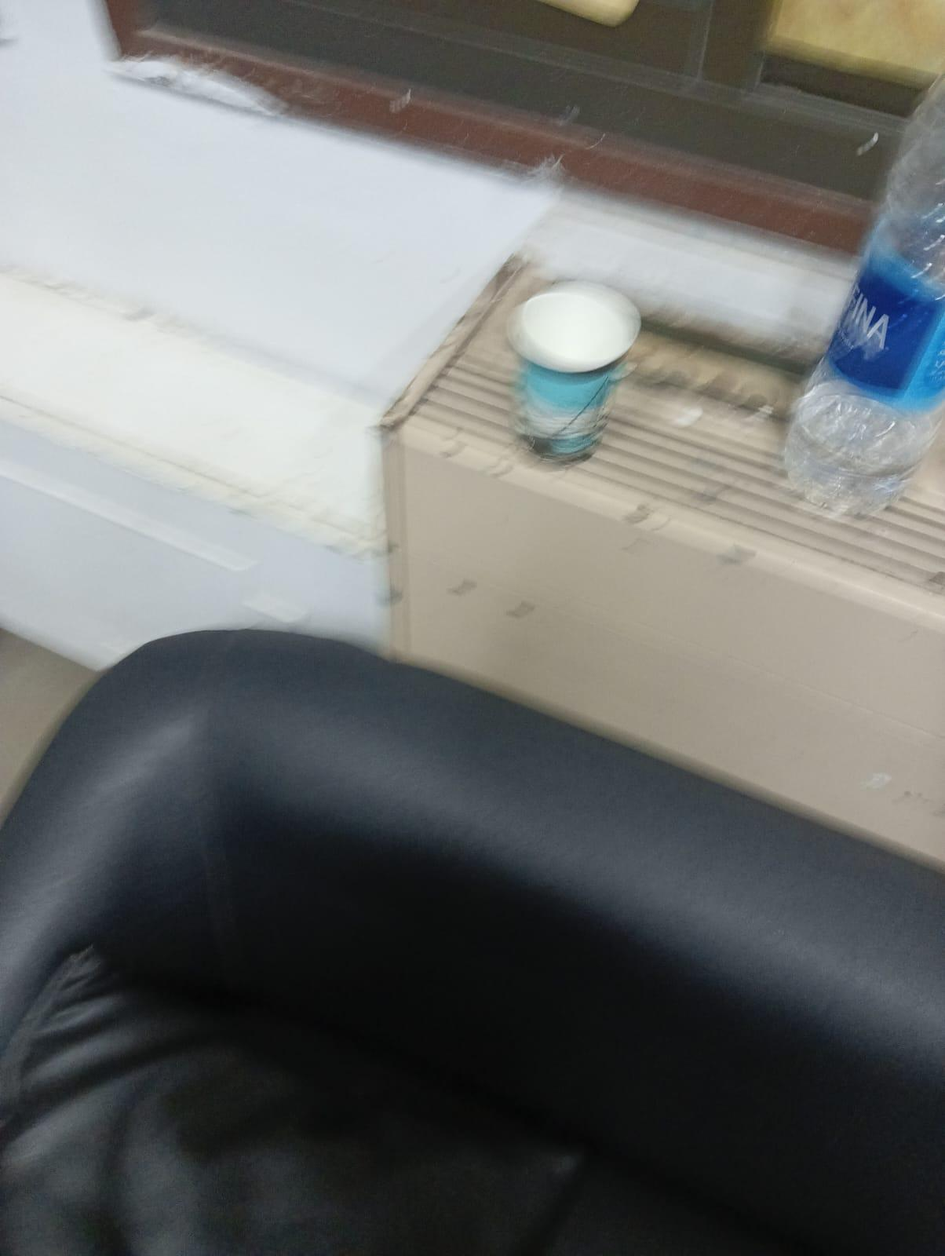cup: (509, 281, 640, 460), (528, 281, 641, 373)
